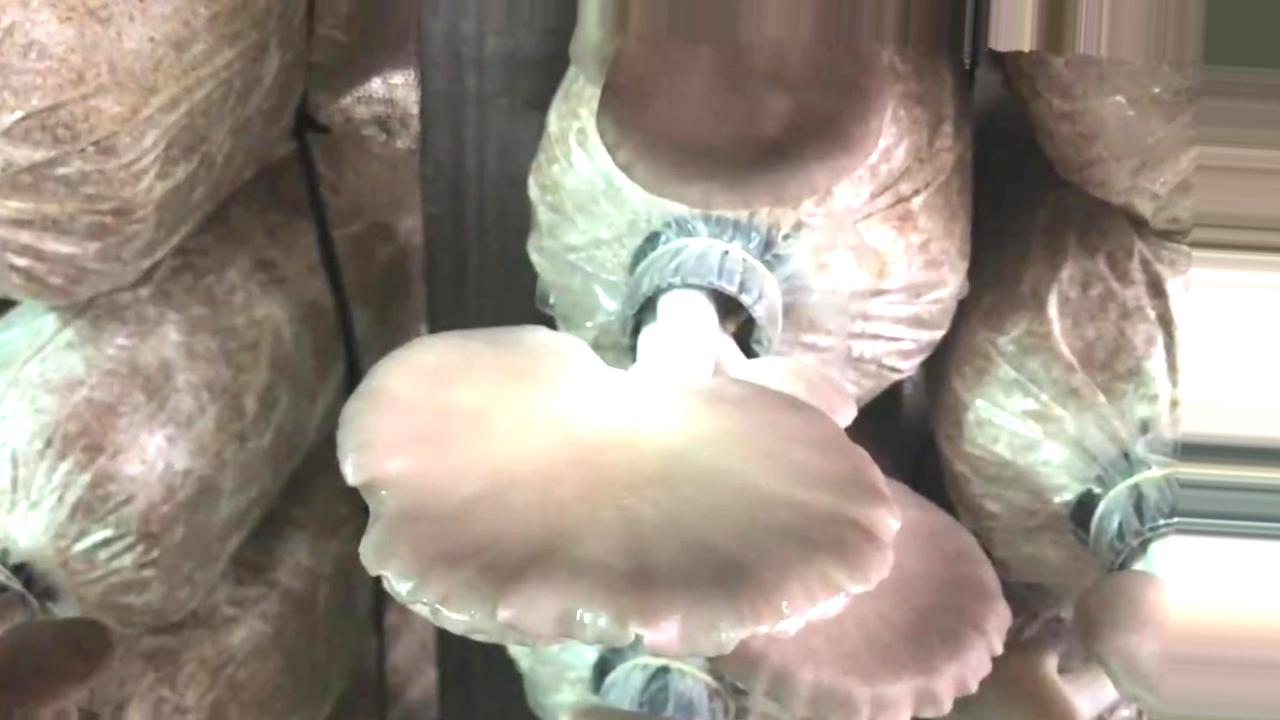nam: (335, 225, 903, 655), (708, 477, 1013, 720), (591, 82, 898, 210)
